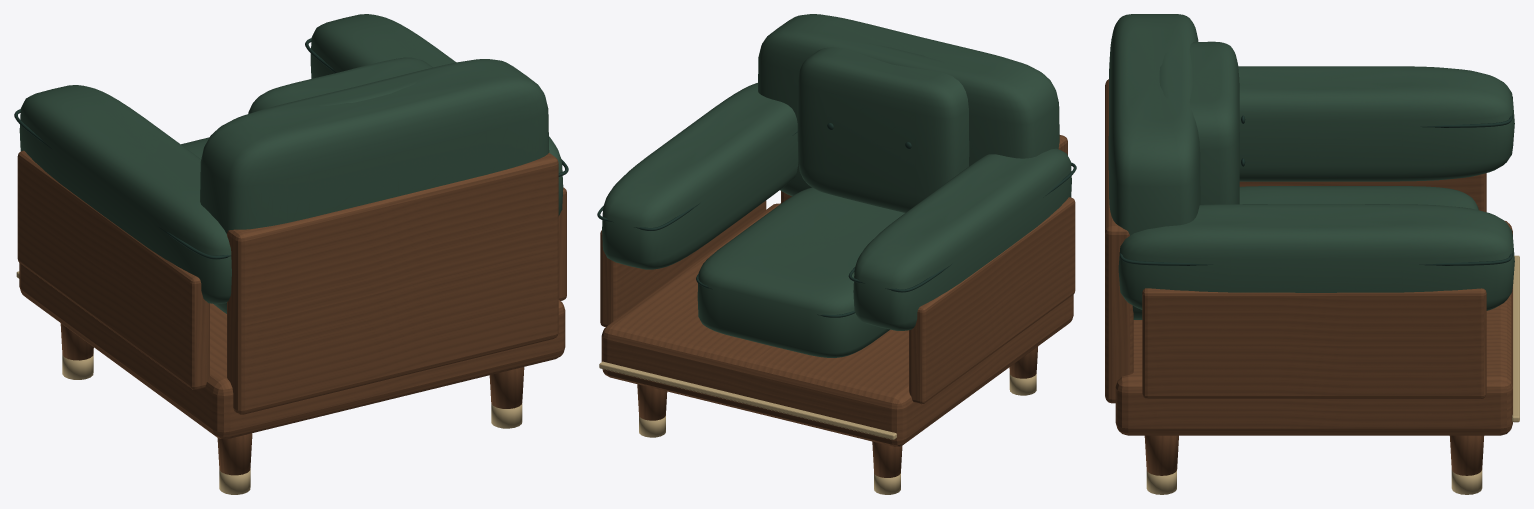
The model's file is hotel-armchair.glb.
3 views of the same model, side by side, from view 1: azimuth 30°, elevation 25°; view 2: azimuth 150°, elevation 25°; view 3: azimuth 270°, elevation 25° (orthographic). The views are drawn at different scales.
Parts seen in each view (by area): view 1: hotel-armchair / Hotel satin walnut, hotel-armchair / Hotel forest velvet, hotel-armchair / Hotel satin champagne brass, hotel-armchair / Hotel upholstery dark piping; view 2: hotel-armchair / Hotel forest velvet, hotel-armchair / Hotel satin walnut, hotel-armchair / Hotel satin champagne brass, hotel-armchair / Hotel upholstery dark piping; view 3: hotel-armchair / Hotel forest velvet, hotel-armchair / Hotel satin walnut, hotel-armchair / Hotel satin champagne brass, hotel-armchair / Hotel upholstery dark piping.
Boxes of the visible parts, <box> form: hotel-armchair / Hotel satin walnut: <box>17,150,566,475</box>; hotel-armchair / Hotel forest velvet: <box>19,14,563,313</box>; hotel-armchair / Hotel satin champagne brass: <box>16,271,522,494</box>; hotel-armchair / Hotel upholstery dark piping: <box>14,38,568,259</box>; hotel-armchair / Hotel forest velvet: <box>602,14,1071,357</box>; hotel-armchair / Hotel satin walnut: <box>600,135,1075,477</box>; hotel-armchair / Hotel satin champagne brass: <box>599,361,1036,494</box>; hotel-armchair / Hotel upholstery dark piping: <box>597,123,1076,317</box>; hotel-armchair / Hotel forest velvet: <box>1108,14,1514,319</box>; hotel-armchair / Hotel satin walnut: <box>1105,79,1512,475</box>; hotel-armchair / Hotel satin champagne brass: <box>1146,255,1519,494</box>; hotel-armchair / Hotel upholstery dark piping: <box>1119,97,1512,265</box>.
Size of the model in its own units: 1.19 by 1.09 by 1.17.
Materials: 4 (2 with a texture image).
